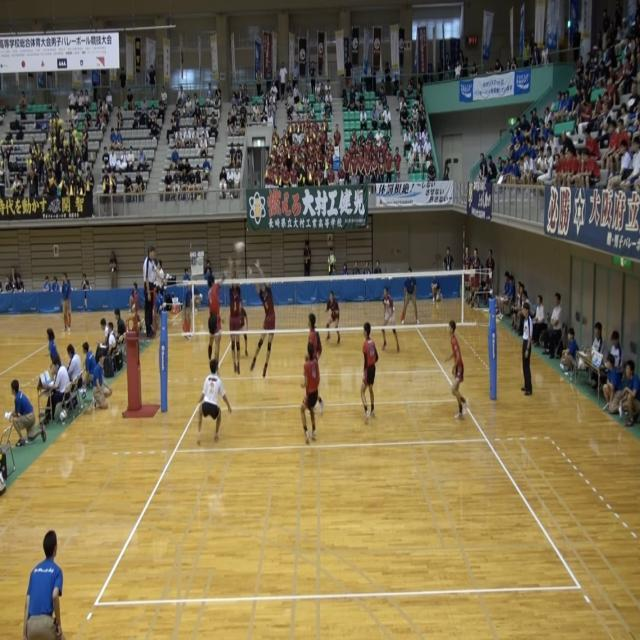spike: (202, 254, 235, 378)
